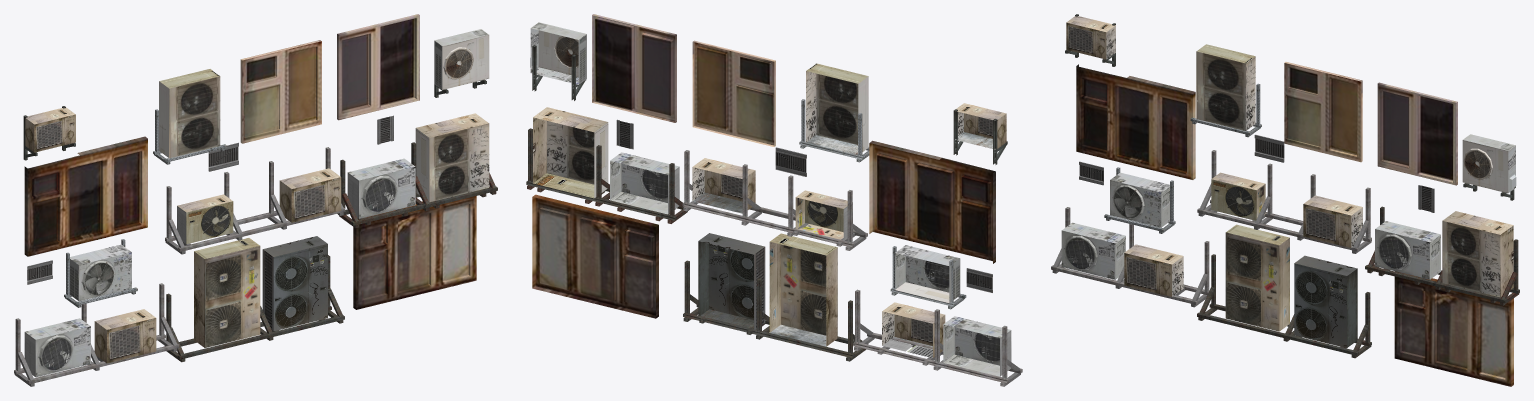
Rendered from Air conditioner.fbx.
3 renders of one model, left to right at view 1: azimuth 30°, elevation 25°; view 2: azimuth 150°, elevation 25°; view 3: azimuth 330°, elevation 25°, orthographic. The views are drawn at different scales.
Visible parts, largest first — view 1: Plane.006; view 2: Plane.006; view 3: Plane.006.
Part boxes in pixels (x1,y1,x2,y2): Plane.006: (14, 14, 497, 386); Plane.006: (526, 14, 1022, 386); Plane.006: (1051, 14, 1519, 386).
Bounding box in the file's own units: 1150 × 655 × 76.85.
Materials: 1 (1 with a texture image).
